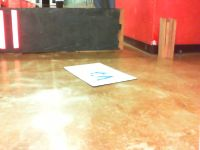switch: (11, 10, 20, 49), (1, 9, 6, 49)
